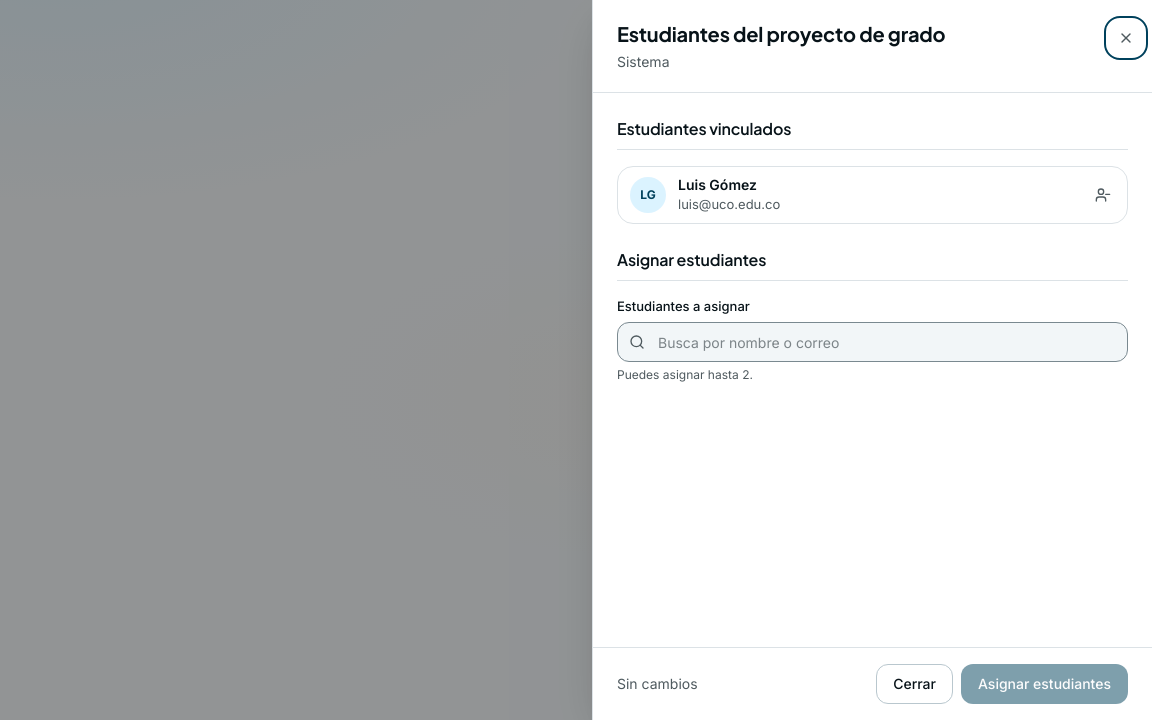
Test case: EstudiantesProyectoGradoPanel › no ofrece como opción a un estudiante ya vinculado y deshabilita el envío sin selección
This screenshot has width=1152, height=720.
Click the dropdown labelled "Estudiantes a asignar": (872, 342) left=617, top=322, right=1128, bottom=362
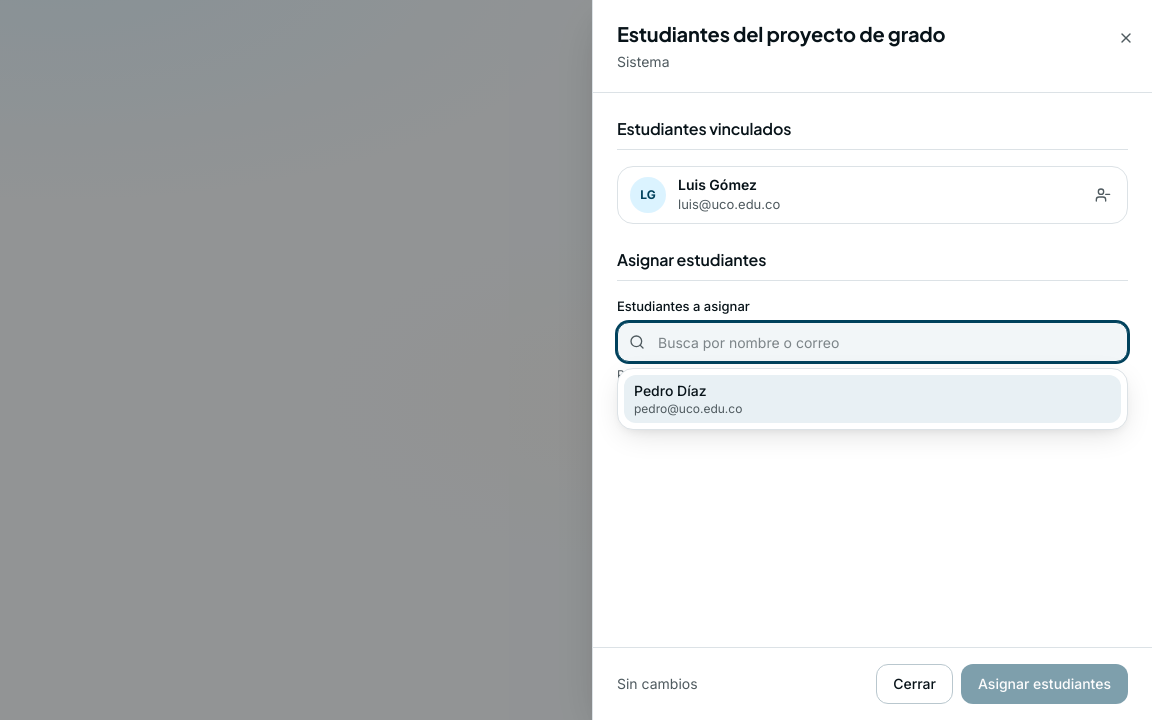
Expected: the button "Asignar estudiantes" is disabled, left=961, top=664, right=1128, bottom=704
Result: the option "Pedro Díaz pedro@uco.edu.co" is shown at left=624, top=375, right=1121, bottom=423
